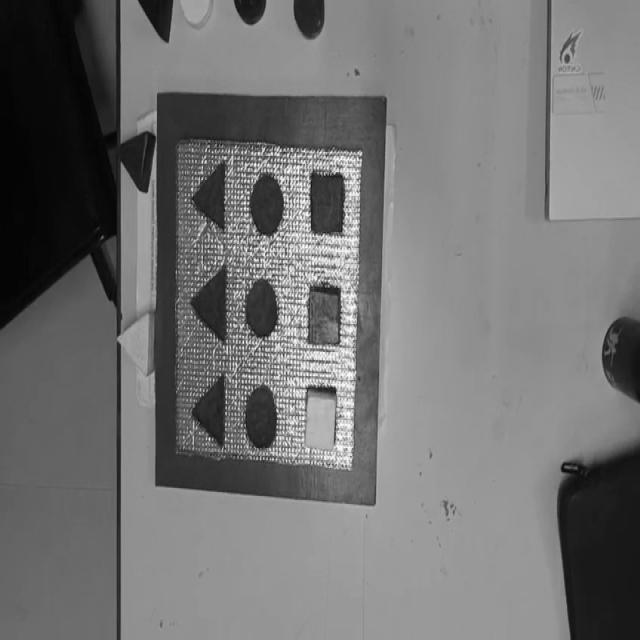bcube: (310, 173, 344, 236)
btriangle: (136, 0, 172, 42)
mtcircle: (250, 173, 284, 237), (244, 386, 277, 448), (246, 278, 278, 338)
mttriangle: (190, 264, 228, 340), (191, 375, 226, 447), (192, 162, 226, 230)
rcircle: (294, 0, 324, 39)
rcube: (308, 284, 342, 347)
rtriangle: (116, 131, 155, 193)
wb: (173, 134, 364, 477)
ycube: (304, 386, 337, 452)
ytriangle: (116, 311, 155, 376)
